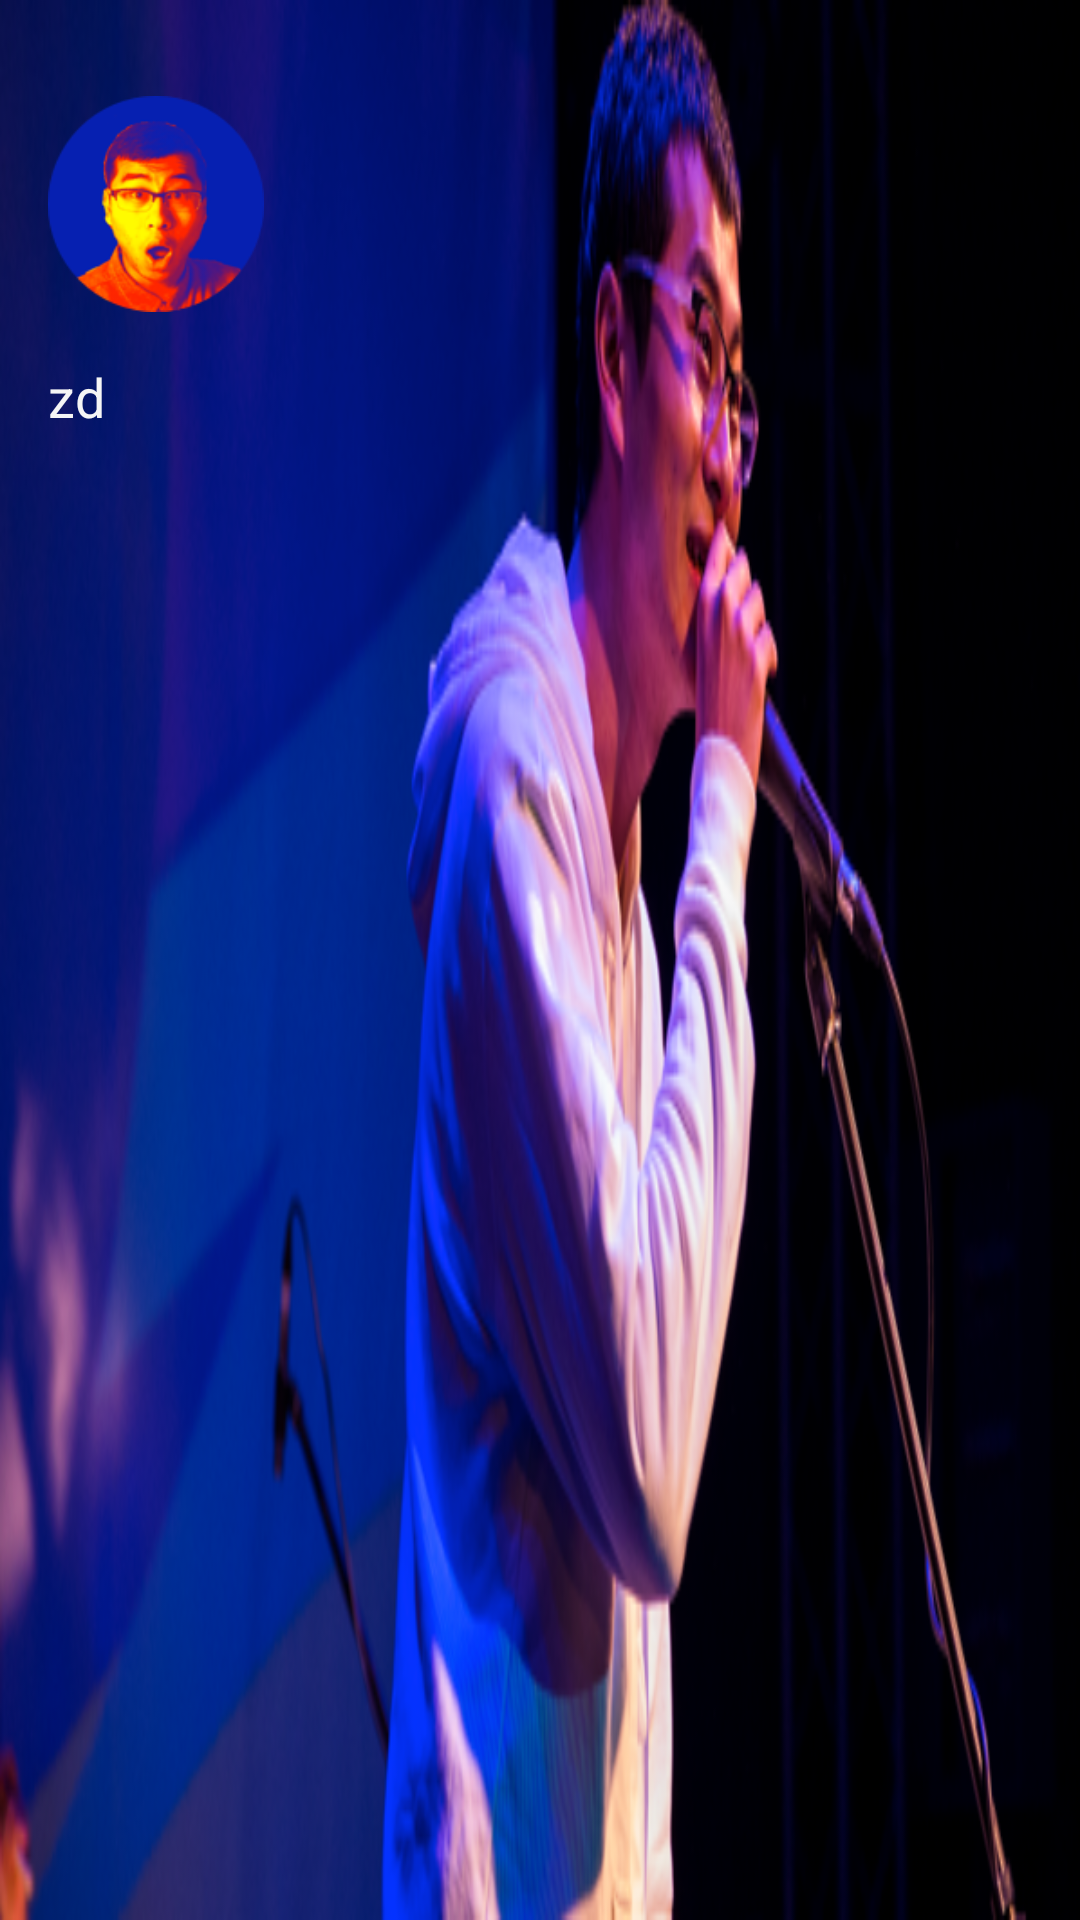

Icon click points for this 1080×1920 phone screenshot, format (x=x, y=y):
profile: (x=156, y=204)
